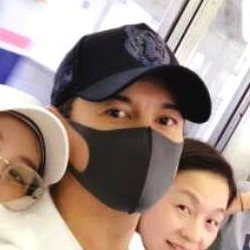mask: (64, 112, 184, 214)
